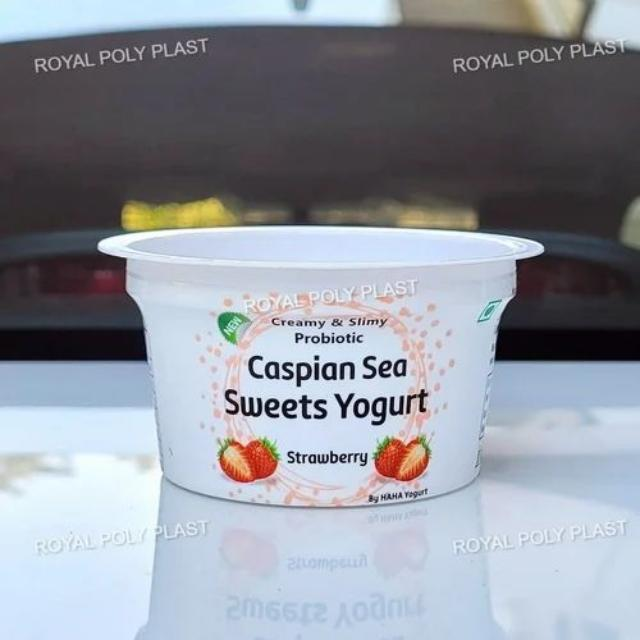yogurt: (97, 222, 546, 508)
